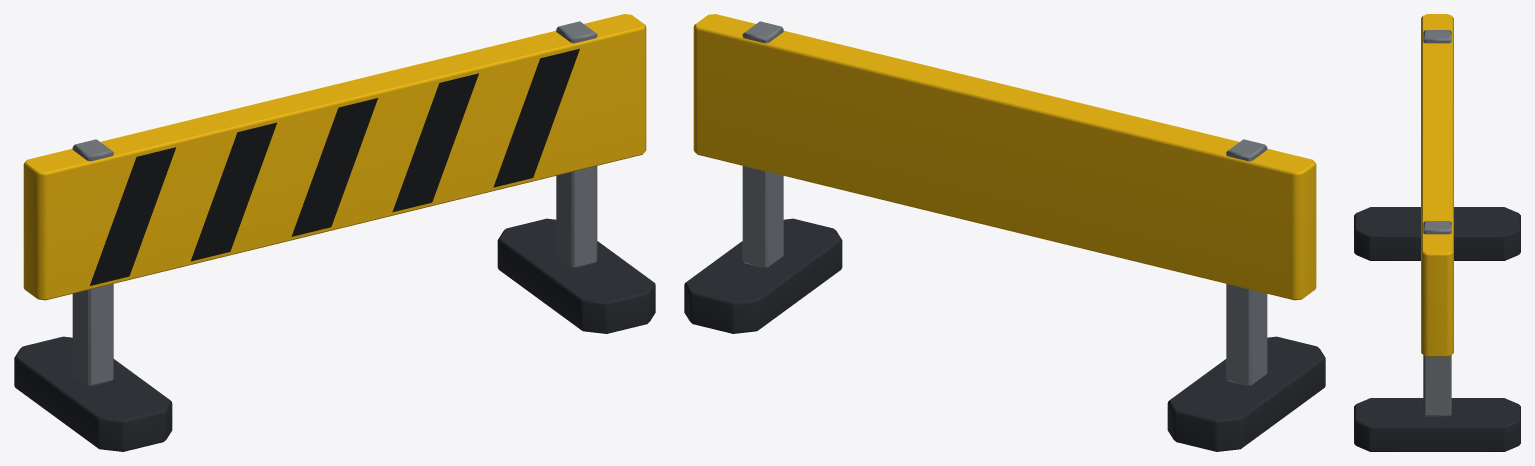
The model's file is CONSTRUCTION_BARRIER_01.glb.
3 views of the same model, side by side, from view 1: azimuth 30°, elevation 25°; view 2: azimuth 150°, elevation 25°; view 3: azimuth 270°, elevation 25° (orthographic). The views are drawn at different scales.
Parts seen in each view (by area): view 1: CIVRUM_GAME_CONSTRUCTION_BARRIER_01; view 2: CIVRUM_GAME_CONSTRUCTION_BARRIER_01; view 3: CIVRUM_GAME_CONSTRUCTION_BARRIER_01.
Part boxes in pixels (x1,y1,x2,y2): CIVRUM_GAME_CONSTRUCTION_BARRIER_01: [14, 14, 655, 451]; CIVRUM_GAME_CONSTRUCTION_BARRIER_01: [684, 14, 1325, 451]; CIVRUM_GAME_CONSTRUCTION_BARRIER_01: [1354, 14, 1520, 451].
Size of the model in its own units: 2.6 by 1.07 by 0.76.
